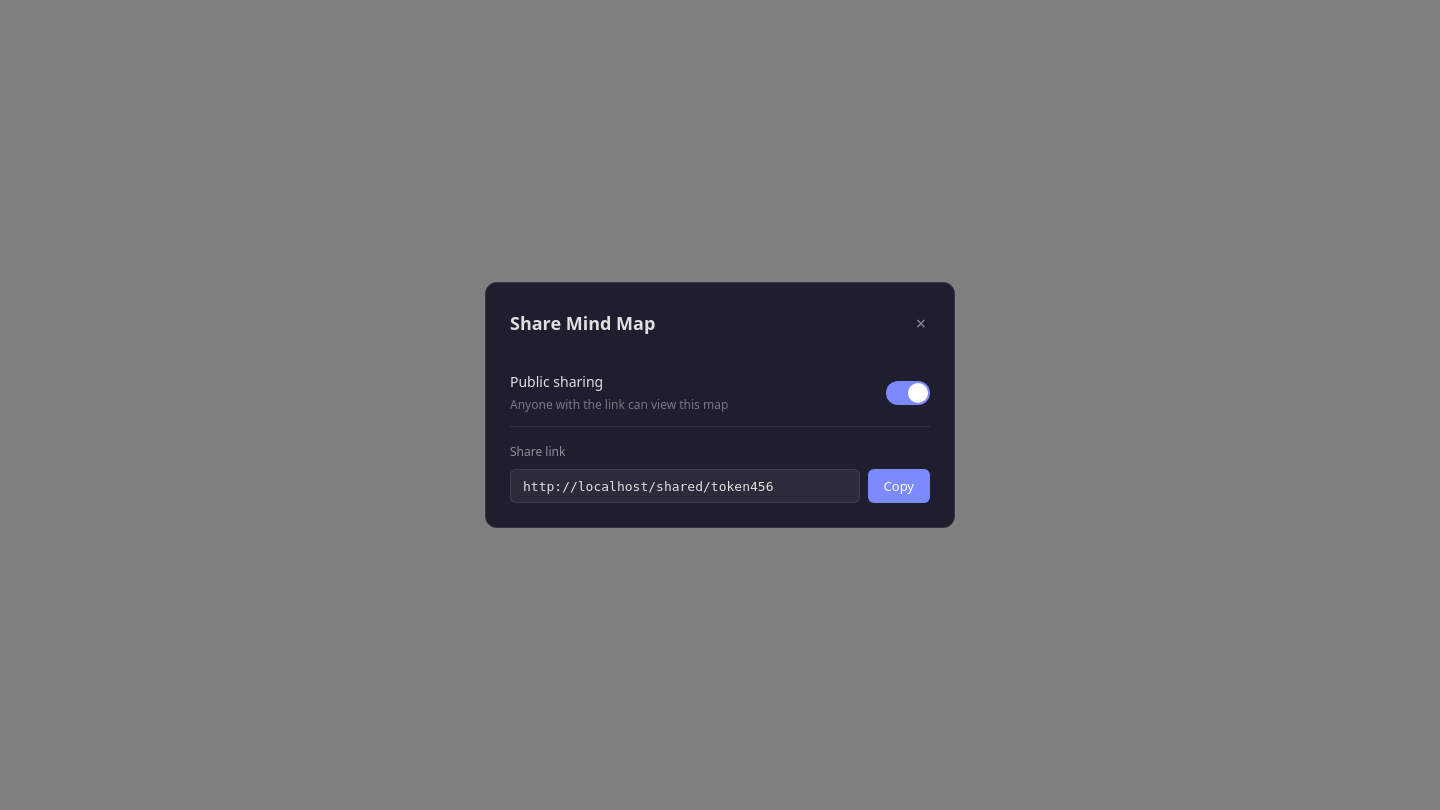
Scenario: ShareModal › copy button copies URL to clipboard
Click the button "Copy". click: (899, 486)
box: [868,469,930,503]
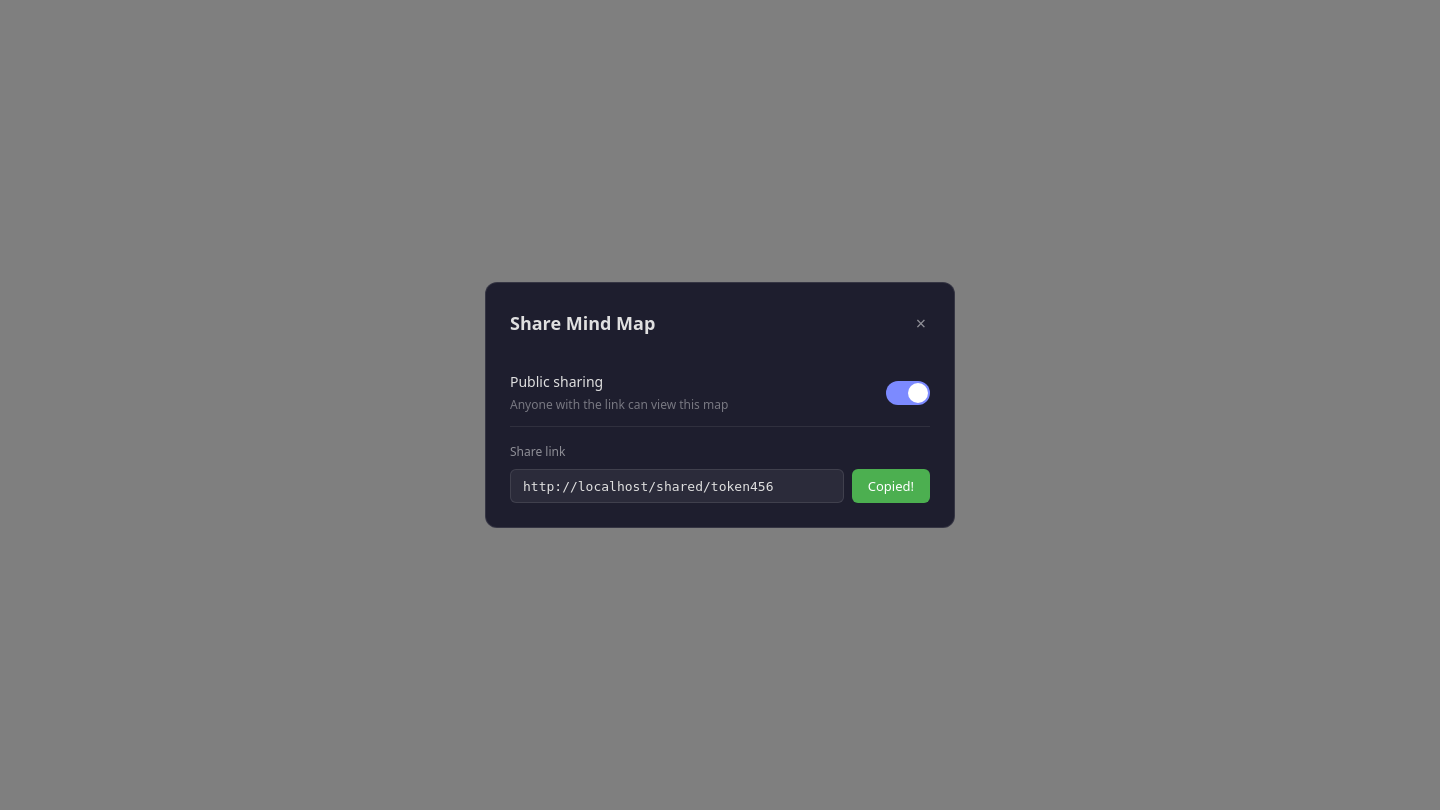
expect the button "Copied!" is shown: met, box [852,469,930,503]
